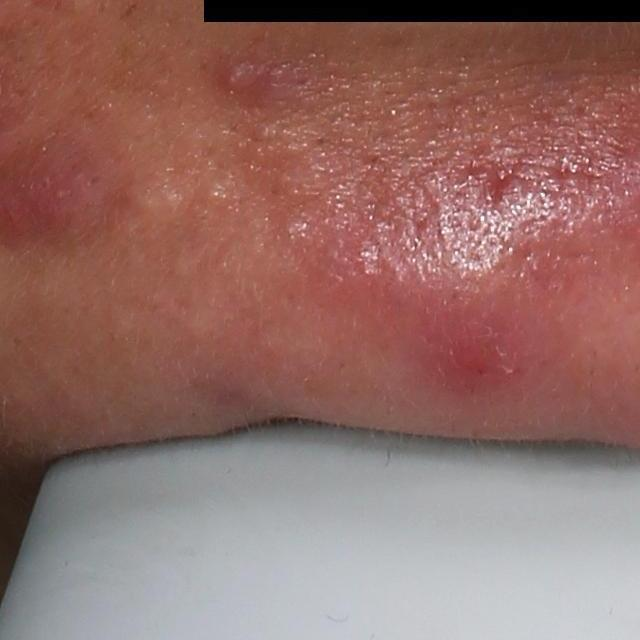hypertrophic_scar: (122, 167, 190, 220)
nodule: (354, 218, 579, 411)
papule: (218, 49, 269, 102)
